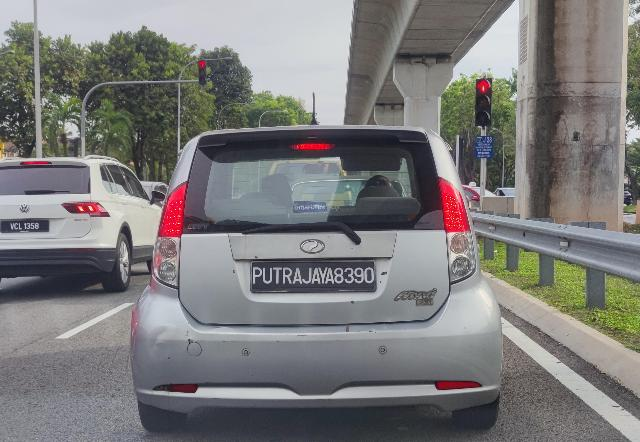License_Plate: (247, 262, 380, 295), (4, 219, 43, 234)
car: (130, 122, 507, 442), (2, 157, 177, 290)
